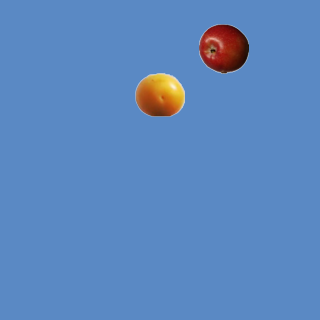Apple Braeburn: (198, 23, 248, 73)
Cherry Wax Yellow: (134, 69, 184, 119)
